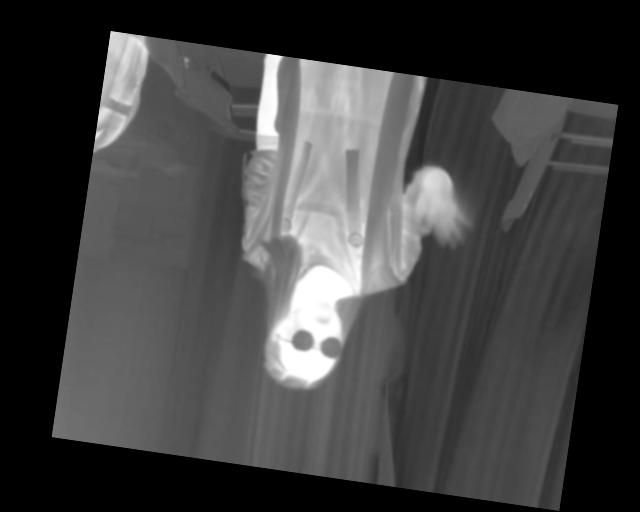face: (262, 291, 349, 395)
